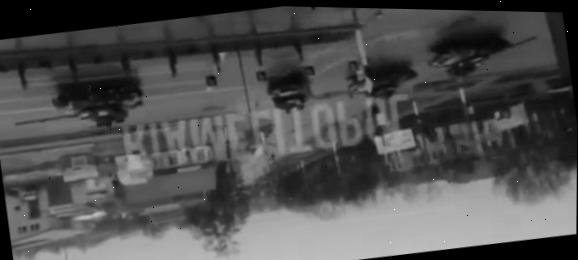tank: (10, 77, 147, 141), (425, 27, 541, 87), (340, 56, 425, 110), (259, 68, 320, 121)
